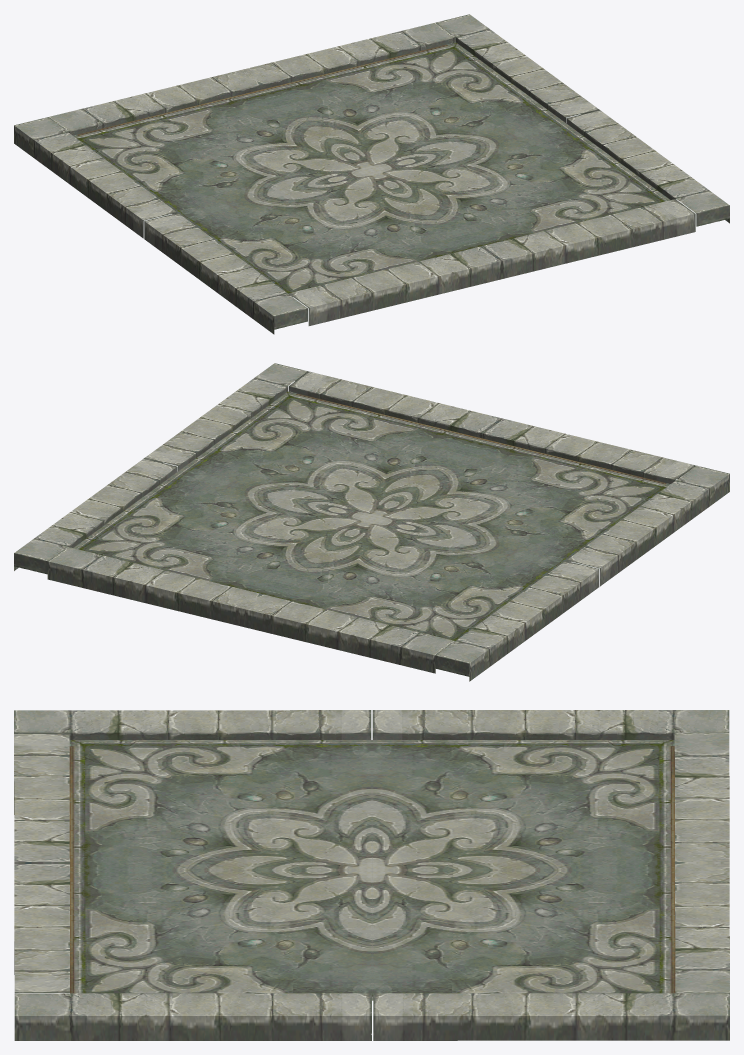
The model's file is xs__Item_louti_5.FBX.
The picture shows the model from 3 angles, top to bottom: view 1: azimuth 30°, elevation 25°; view 2: azimuth 150°, elevation 25°; view 3: azimuth 270°, elevation 25°; orthographic projection. The views are drawn at different scales.
Parts seen in each view (by area): view 1: xs__Item_louti_5; view 2: xs__Item_louti_5; view 3: xs__Item_louti_5.
Part boxes in pixels (left/top/right/bottom): xs__Item_louti_5: left=14, top=14, right=729, bottom=334; xs__Item_louti_5: left=14, top=363, right=729, bottom=681; xs__Item_louti_5: left=14, top=710, right=729, bottom=1040.
Bounding box in the file's own units: 1217 × 47.91 × 1205.
